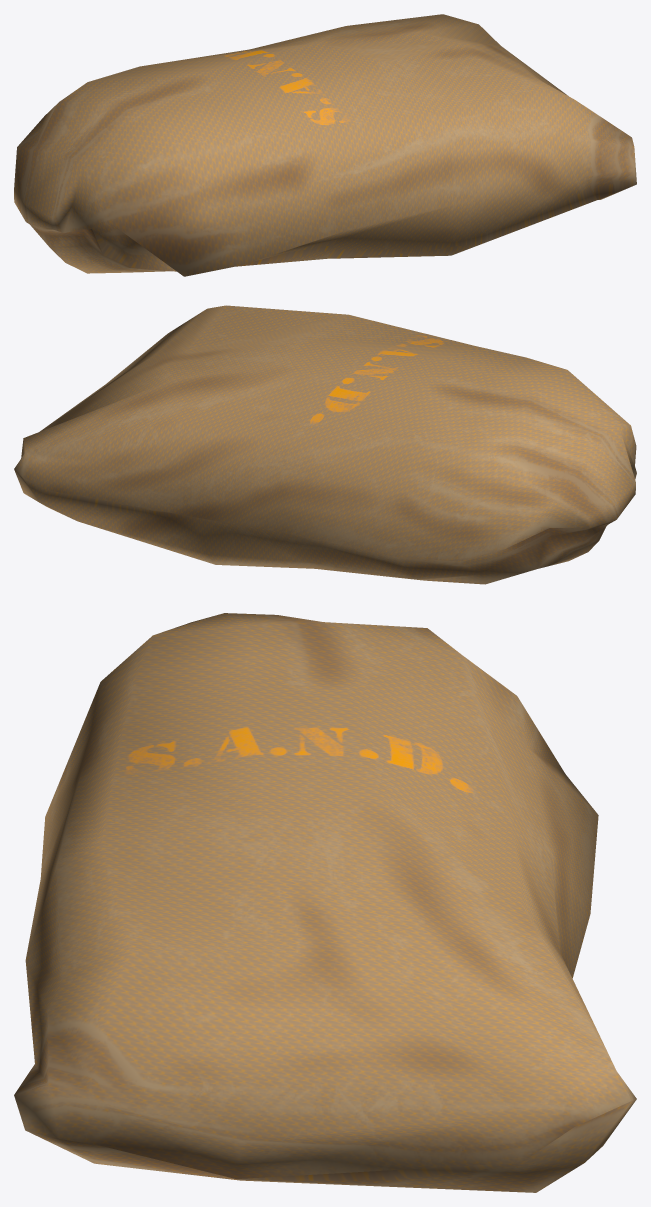
File: Sac_Sable_LOD01.FBX
3 renders of one model, top to bottom at view 1: azimuth 30°, elevation 25°; view 2: azimuth 150°, elevation 25°; view 3: azimuth 270°, elevation 25°, orthographic. The views are drawn at different scales.
Parts seen in each view (by area): view 1: Sac_Sable_LOD01; view 2: Sac_Sable_LOD01; view 3: Sac_Sable_LOD01.
Part boxes in pixels (<box>): Sac_Sable_LOD01: <box>14,14,636,276</box>; Sac_Sable_LOD01: <box>14,305,636,584</box>; Sac_Sable_LOD01: <box>14,613,636,1192</box>.
Size of the model in its own units: 73.34 by 23.61 by 45.76.
